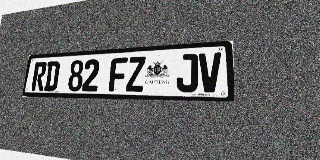2: (82, 59, 100, 91)
8: (67, 60, 85, 91)
D: (44, 61, 60, 91)
F: (108, 57, 128, 92)
J: (176, 53, 198, 92)
R: (31, 62, 47, 91)
V: (198, 52, 222, 92)
Z: (126, 56, 146, 92)
